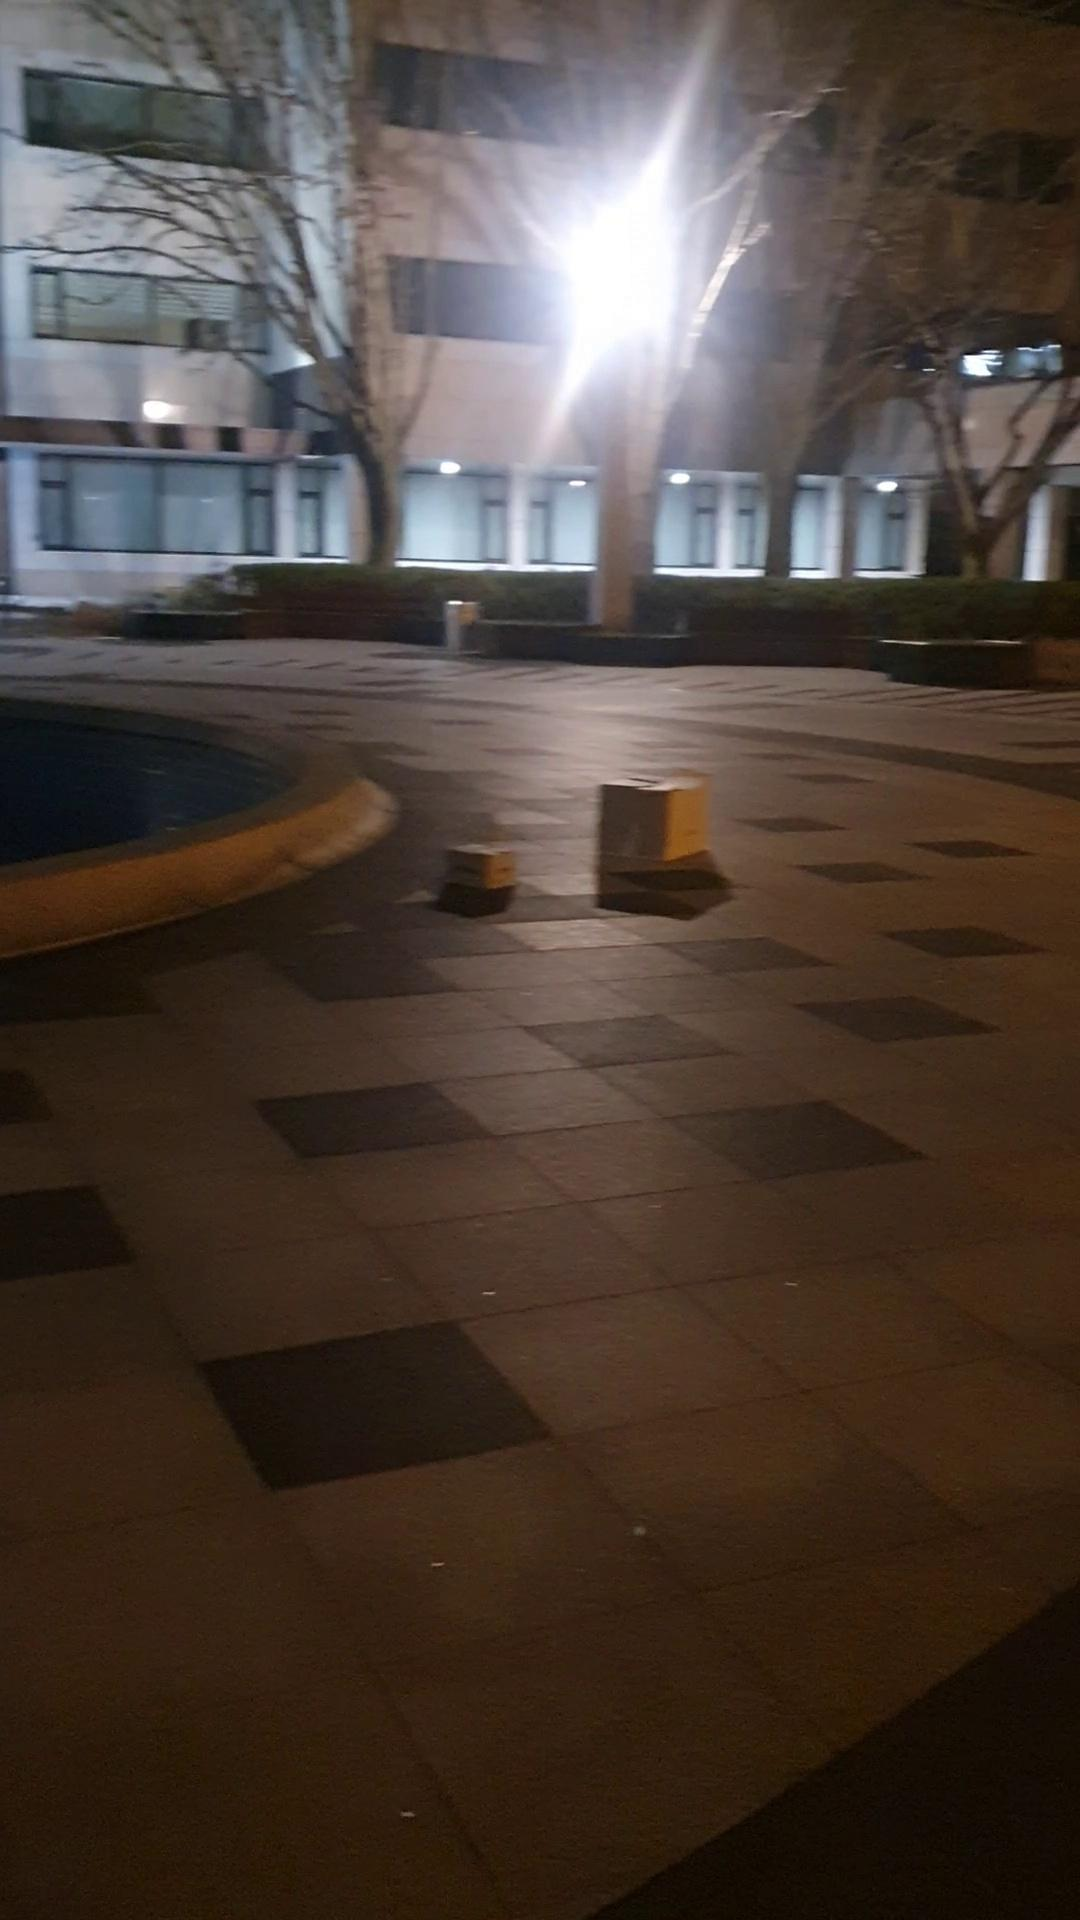Box: (596, 770, 732, 890), (433, 833, 525, 903)
